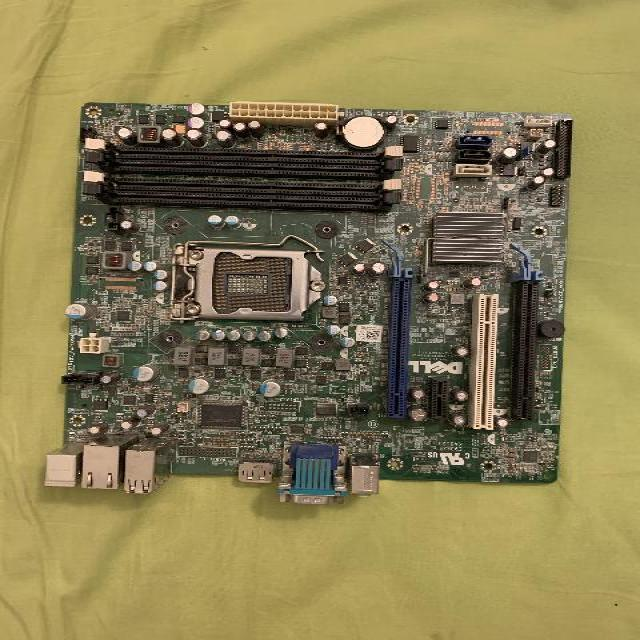Mainboard: (48, 101, 573, 504)
